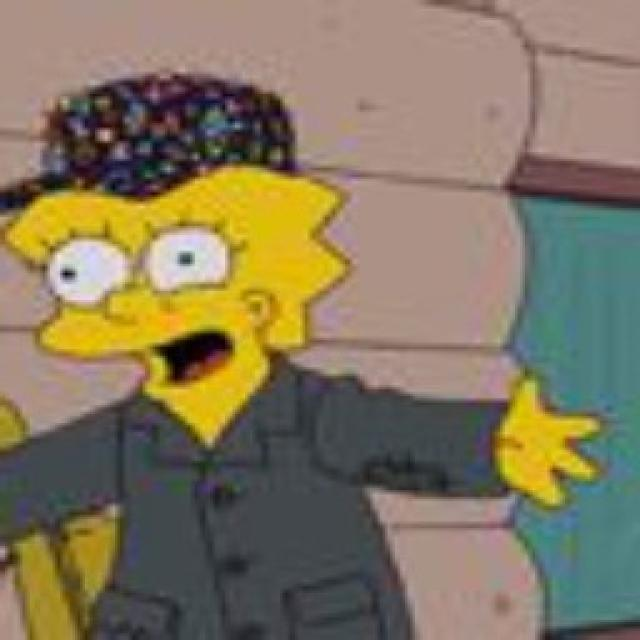Lisa Simpson: (8, 157, 358, 416)
